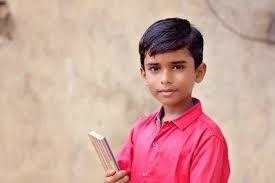Human: (97, 28, 234, 183)
